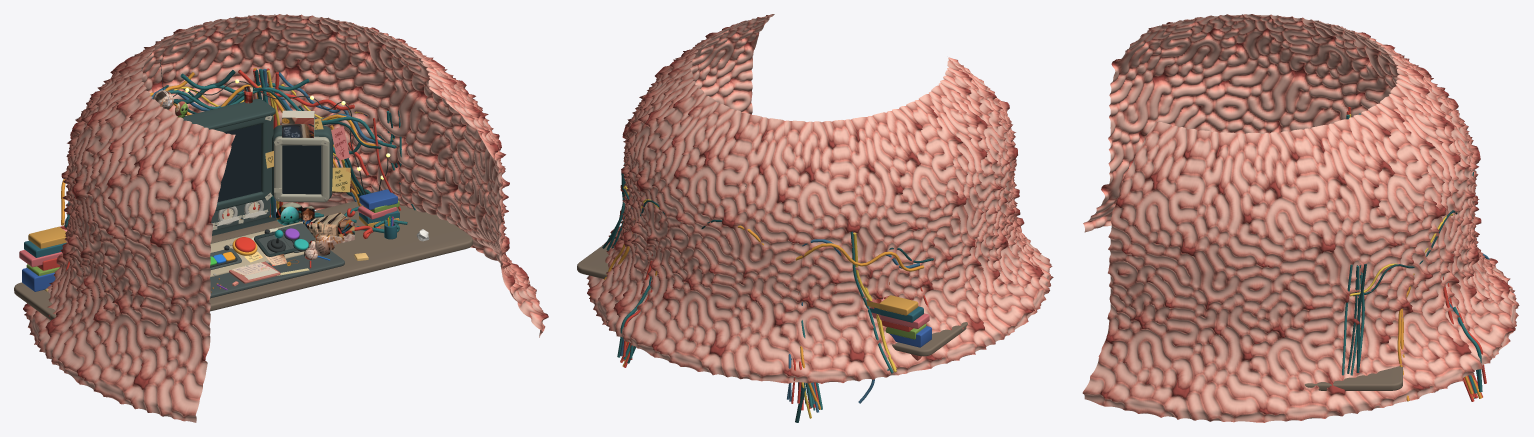
Rendered from cockpit_art.glb.
3 renders of one model, left to right at view 1: azimuth 30°, elevation 25°; view 2: azimuth 150°, elevation 25°; view 3: azimuth 270°, elevation 25°, orthographic. The views are drawn at different scales.
Visible parts, largest first — view 1: BrainFolds, DeskTop, FrontScreenGlass, RightPanelGlass, Tray, RightPanelFrame, Shelf, FrontScreenFrame, LeverBox, CatTV, ConsoleSlab, Bundle4_2 (+7 smaller); view 2: BrainFolds, DeskTop, Bundle4_3, BookEnd0, Bundle2_8; view 3: BrainFolds, DeskTop.
Boxes of the visible parts, box(x1,y1,x2,y2) form: BrainFolds: box(23, 14, 548, 422); DeskTop: box(14, 201, 472, 320); FrontScreenGlass: box(217, 124, 261, 202); RightPanelGlass: box(282, 145, 321, 194); Tray: box(209, 250, 344, 298); RightPanelFrame: box(274, 136, 329, 202); Shelf: box(183, 99, 275, 129); FrontScreenFrame: box(214, 115, 273, 210); LeverBox: box(303, 212, 354, 244); CatTV: box(282, 110, 314, 137); ConsoleSlab: box(210, 221, 304, 277); Bundle4_2: box(168, 87, 396, 148); BrainFolds: box(586, 14, 1053, 383); DeskTop: box(577, 244, 967, 356); Bundle4_3: box(737, 225, 924, 271); BookEnd0: box(879, 295, 918, 315); Bundle2_8: box(850, 231, 893, 373); BrainFolds: box(1082, 14, 1519, 422); DeskTop: box(1304, 366, 1402, 390).
Bounding box in the file's own units: 4.09 × 2.54 × 3.49.
74 materials, 4 textured.
